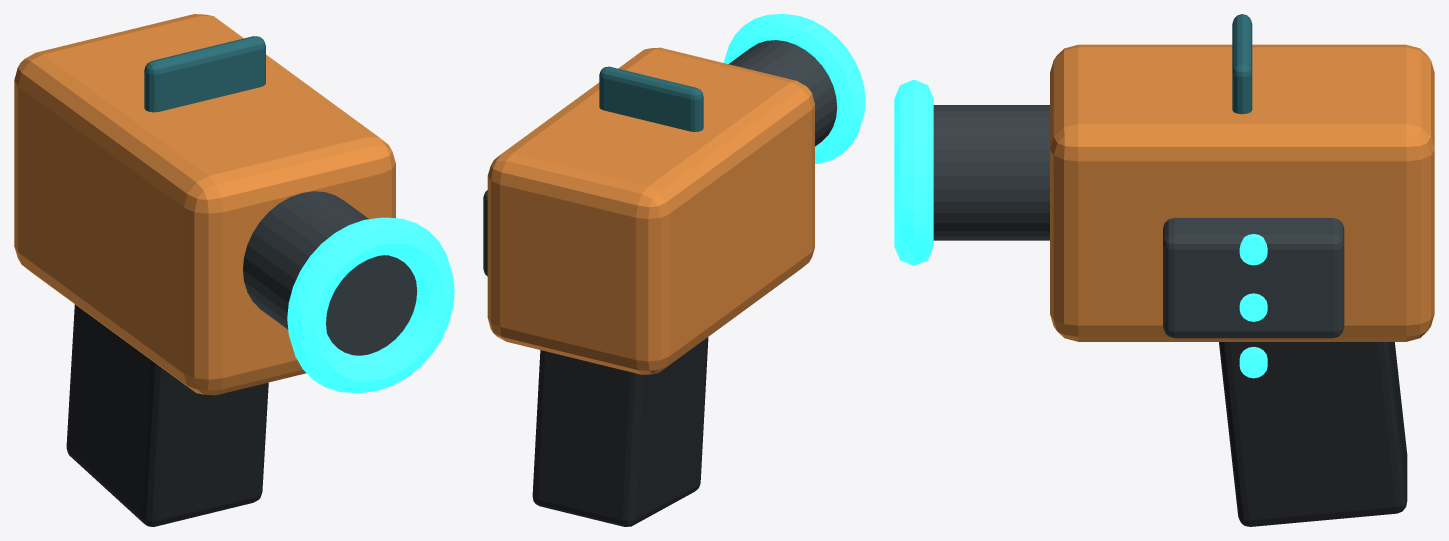
Rendered from build_gun_variant_a.glb.
The picture shows the model from 3 angles, left to right: view 1: azimuth 30°, elevation 25°; view 2: azimuth 150°, elevation 25°; view 3: azimuth 270°, elevation 25°; orthographic projection. The views are drawn at different scales.
Parts seen in each view (by area): view 1: Tool body, Tool grip, Emitter rim, Tool barrel, Top display; view 2: Tool body, Tool grip, Emitter rim, Top display, Tool barrel; view 3: Tool body, Tool grip, Side module, Tool barrel, Emitter rim, Top display, Status indicator, Status indicator.002, Status indicator.001.
Boxes of the visible parts, x1=… form: Tool body: x1=14, y1=14, x2=395, y2=395; Tool grip: x1=66, y1=304, x2=268, y2=526; Emitter rim: x1=287, y1=217, x2=454, y2=393; Tool barrel: x1=243, y1=191, x2=417, y2=355; Top display: x1=144, y1=36, x2=265, y2=112; Tool body: x1=487, y1=47, x2=814, y2=374; Tool grip: x1=532, y1=337, x2=708, y2=526; Emitter rim: x1=723, y1=14, x2=865, y2=163; Top display: x1=599, y1=66, x2=703, y2=131; Tool barrel: x1=728, y1=40, x2=837, y2=146; Tool body: x1=1050, y1=44, x2=1434, y2=341; Tool grip: x1=1219, y1=342, x2=1407, y2=526; Side module: x1=1163, y1=218, x2=1344, y2=338; Tool barrel: x1=933, y1=105, x2=1049, y2=240; Emitter rim: x1=894, y1=79, x2=933, y2=265; Top display: x1=1232, y1=14, x2=1252, y2=114; Status indicator: x1=1239, y1=346, x2=1267, y2=378; Status indicator.002: x1=1239, y1=234, x2=1267, y2=265; Status indicator.001: x1=1239, y1=293, x2=1267, y2=321.
Size of what is drawn, in the model's own units: 0.5225 by 0.9018 by 0.955.
